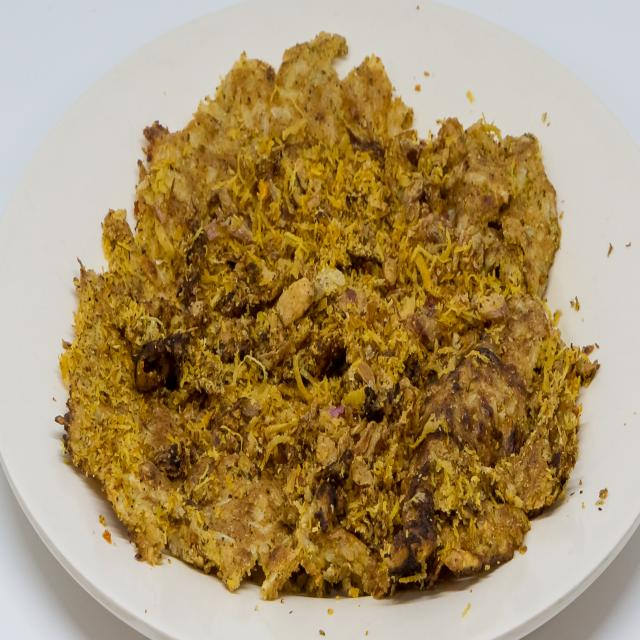Kerak-Telor: (52, 13, 604, 614)
